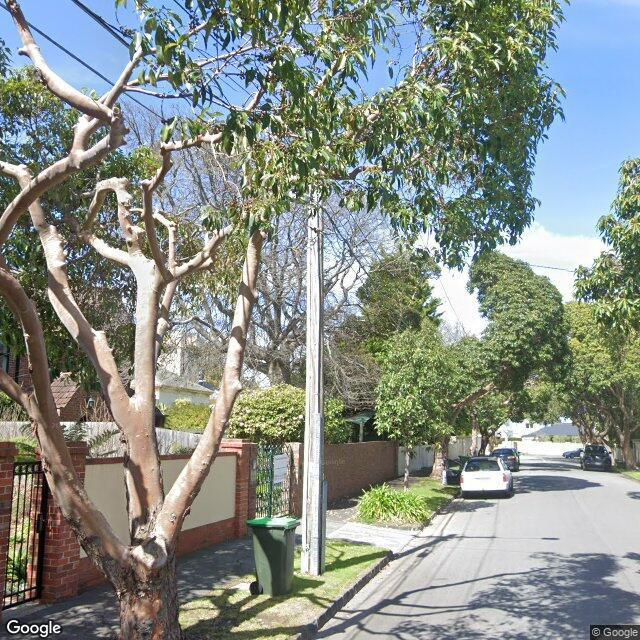timber-pole: (300, 185, 324, 576)
